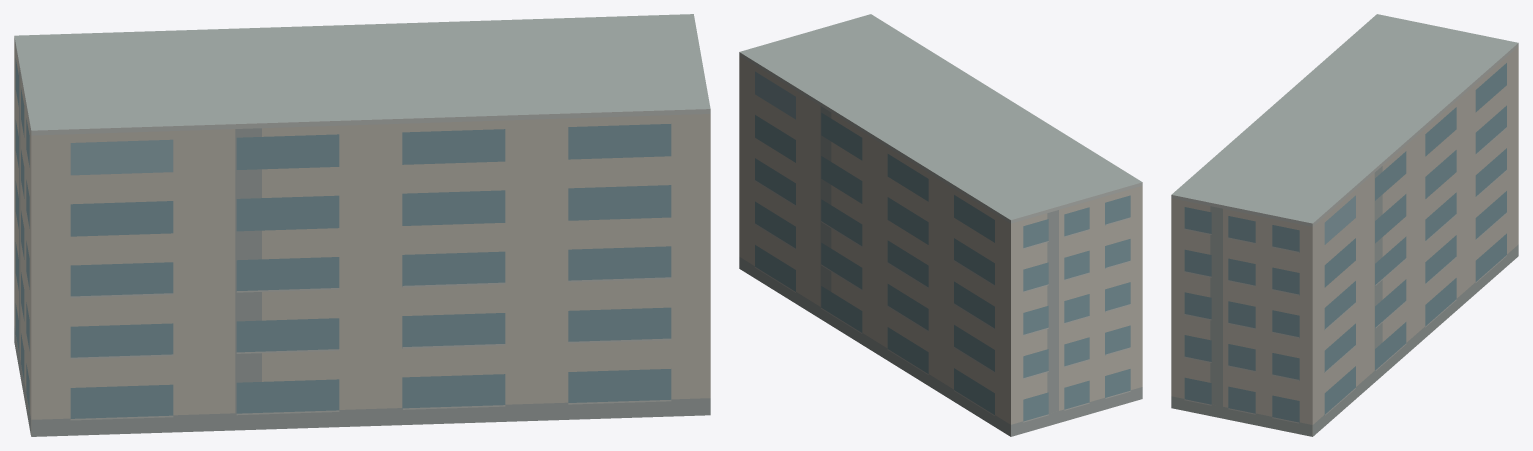
Rendered from residential-543d6264-a1dd-43f3-88a8-27abaf0302d8.glb.
3 renders of one model, left to right at view 1: azimuth 30°, elevation 25°; view 2: azimuth 150°, elevation 25°; view 3: azimuth 270°, elevation 25°, orthographic. The views are drawn at different scales.
Visible parts, largest first — view 1: residential-543d6264-a1dd-43f3-88a8-27abaf0302d8.tmp; view 2: residential-543d6264-a1dd-43f3-88a8-27abaf0302d8.tmp; view 3: residential-543d6264-a1dd-43f3-88a8-27abaf0302d8.tmp.
Boxes of the visible parts, x1,y1,x2,y2 form: residential-543d6264-a1dd-43f3-88a8-27abaf0302d8.tmp: (14,14,710,436); residential-543d6264-a1dd-43f3-88a8-27abaf0302d8.tmp: (739,14,1142,436); residential-543d6264-a1dd-43f3-88a8-27abaf0302d8.tmp: (1171,14,1518,436).
Size of the model in its own units: 32.13 by 15.25 by 22.51.
